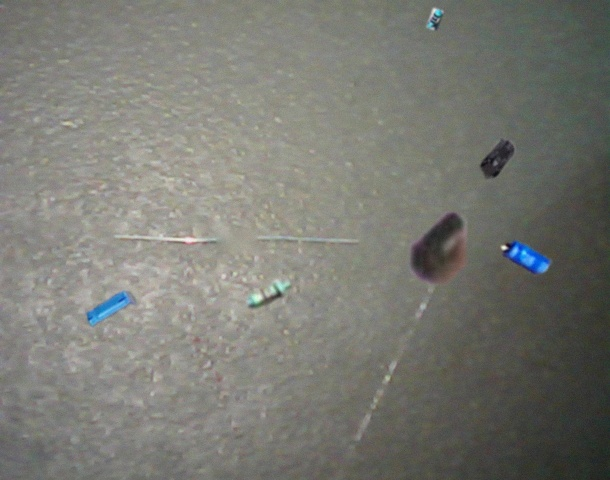capacitor: (410, 212, 466, 285), (501, 240, 552, 275), (86, 291, 135, 326), (480, 138, 515, 180)
resistor: (244, 275, 294, 314), (427, 8, 443, 31)
